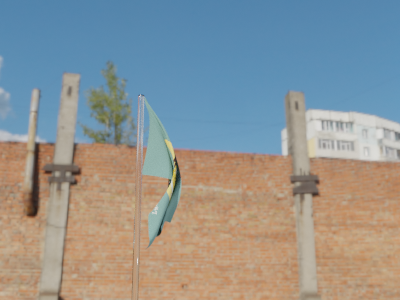Delaware flag: (138, 95, 184, 251)
